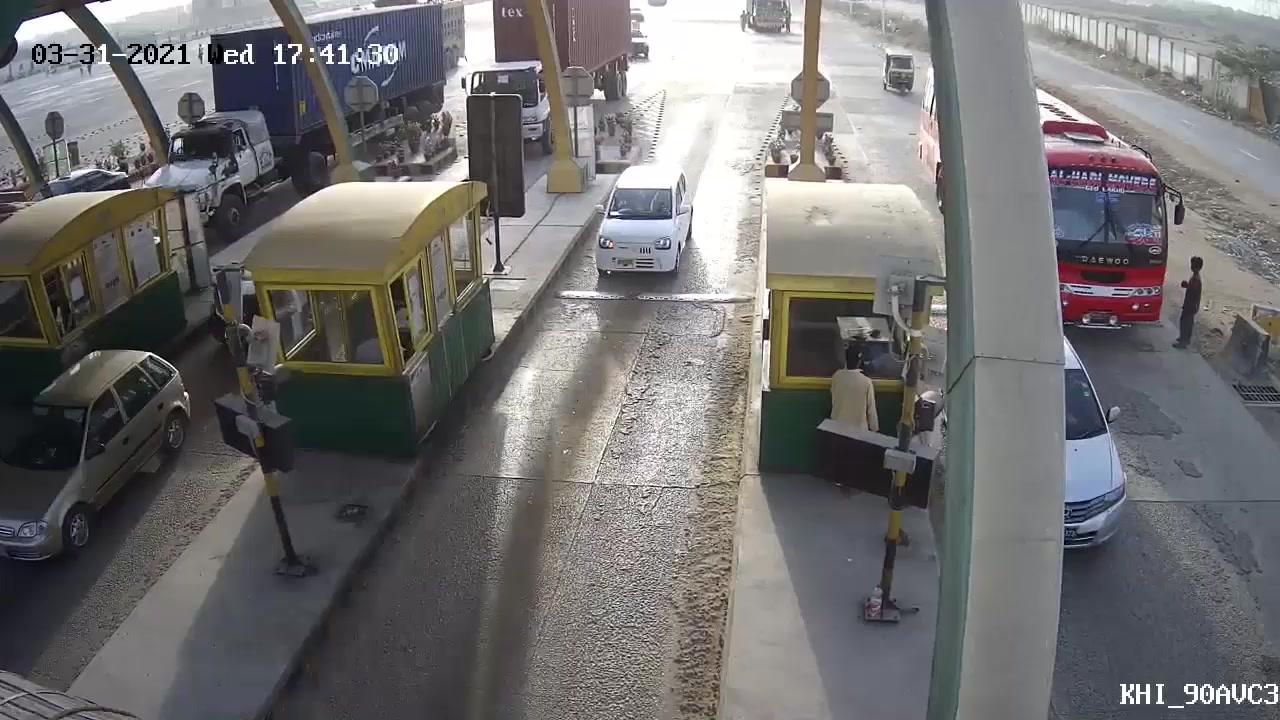F1: (565, 160, 700, 277)
